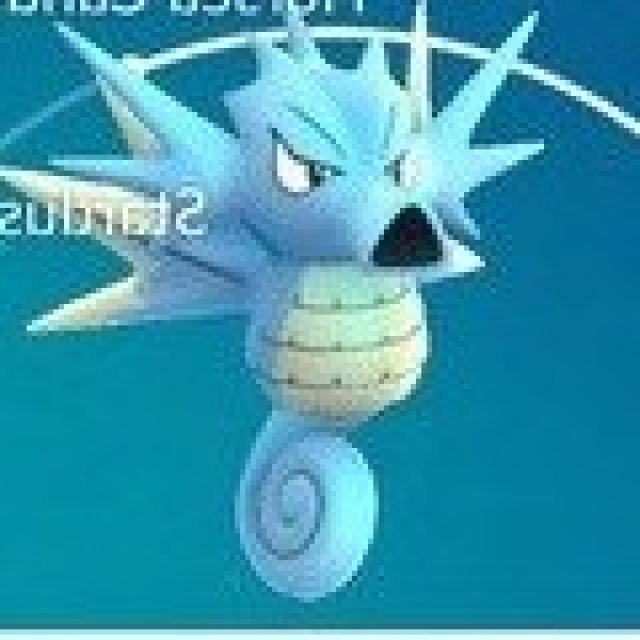Seadra: (51, 12, 539, 607)
